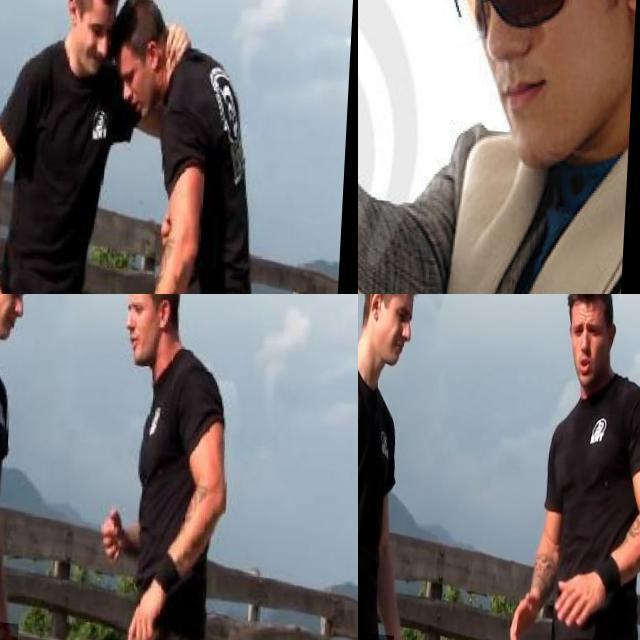-: (0, 613, 40, 640)
gun-knife-thesis - v11 Yolov5 augmented: (358, 0, 461, 285)
